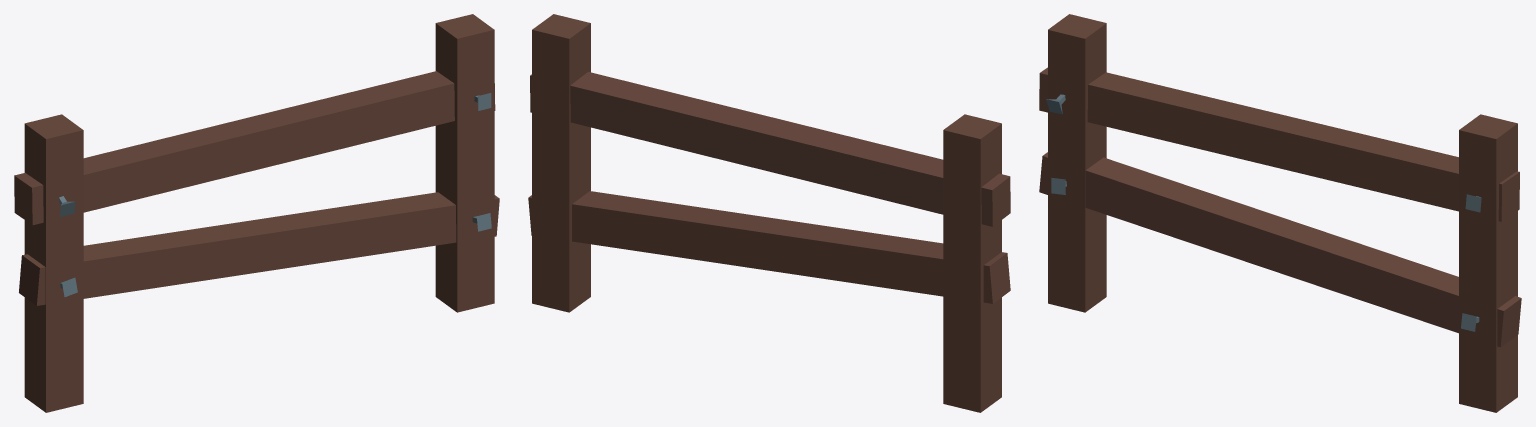
The picture shows the model from 3 angles, left to right: view 1: azimuth 30°, elevation 25°; view 2: azimuth 150°, elevation 25°; view 3: azimuth 330°, elevation 25°; orthographic projection.
Parts seen in each view (by area): view 1: node_MeshObject836591616-PolyPaper21; view 2: node_MeshObject836591616-PolyPaper21; view 3: node_MeshObject836591616-PolyPaper21.
Part boxes in pixels (left/top/right/bottom): node_MeshObject836591616-PolyPaper21: left=14, top=14, right=499, bottom=412; node_MeshObject836591616-PolyPaper21: left=528, top=14, right=1010, bottom=412; node_MeshObject836591616-PolyPaper21: left=1039, top=14, right=1521, bottom=412.
Bounding box in the file's own units: 0.9975 × 0.56 × 0.1153.
